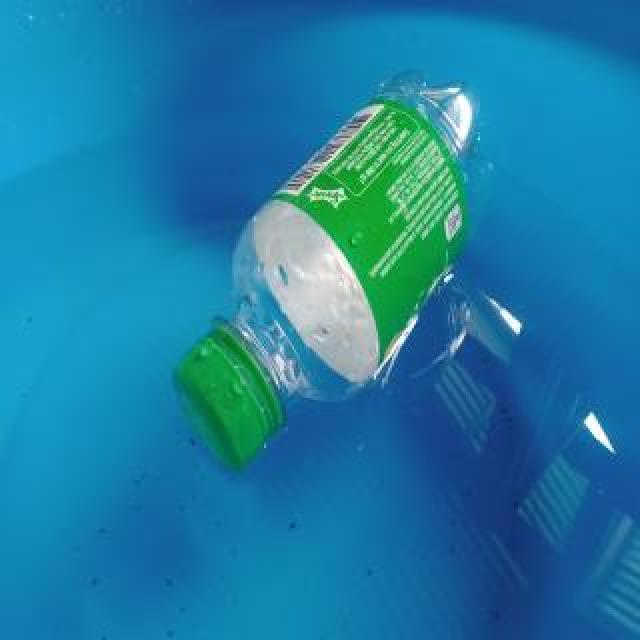bottle: (170, 66, 500, 474)
